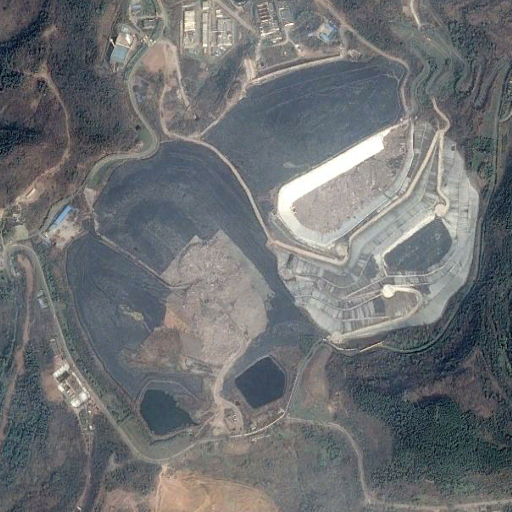lf: (65, 53, 480, 397)
